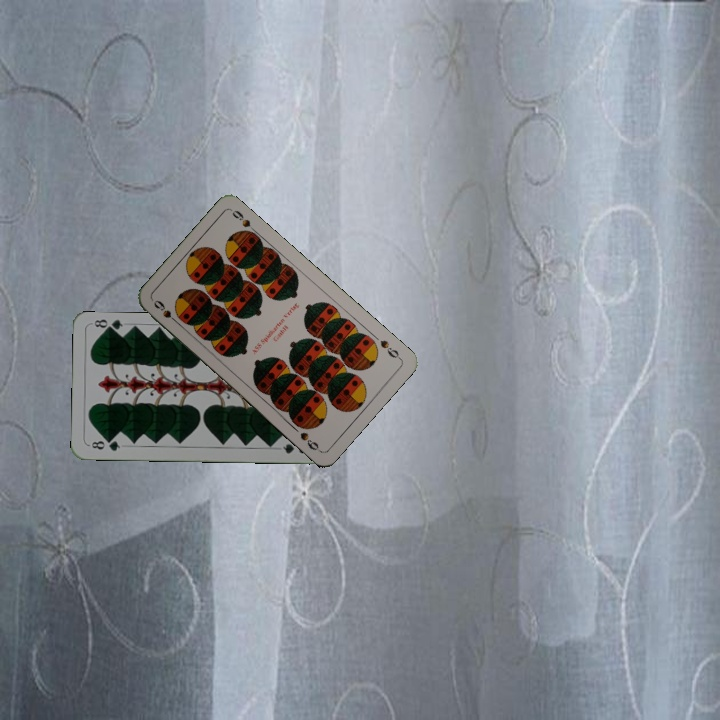G8: (87, 436, 123, 454)
S9: (149, 296, 183, 328), (376, 336, 404, 362)
